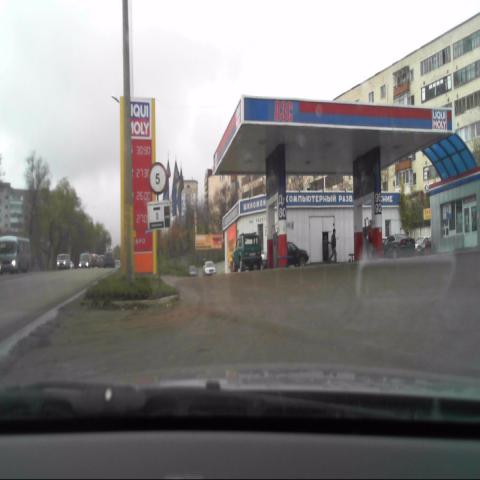3_24: (148, 159, 168, 194)
